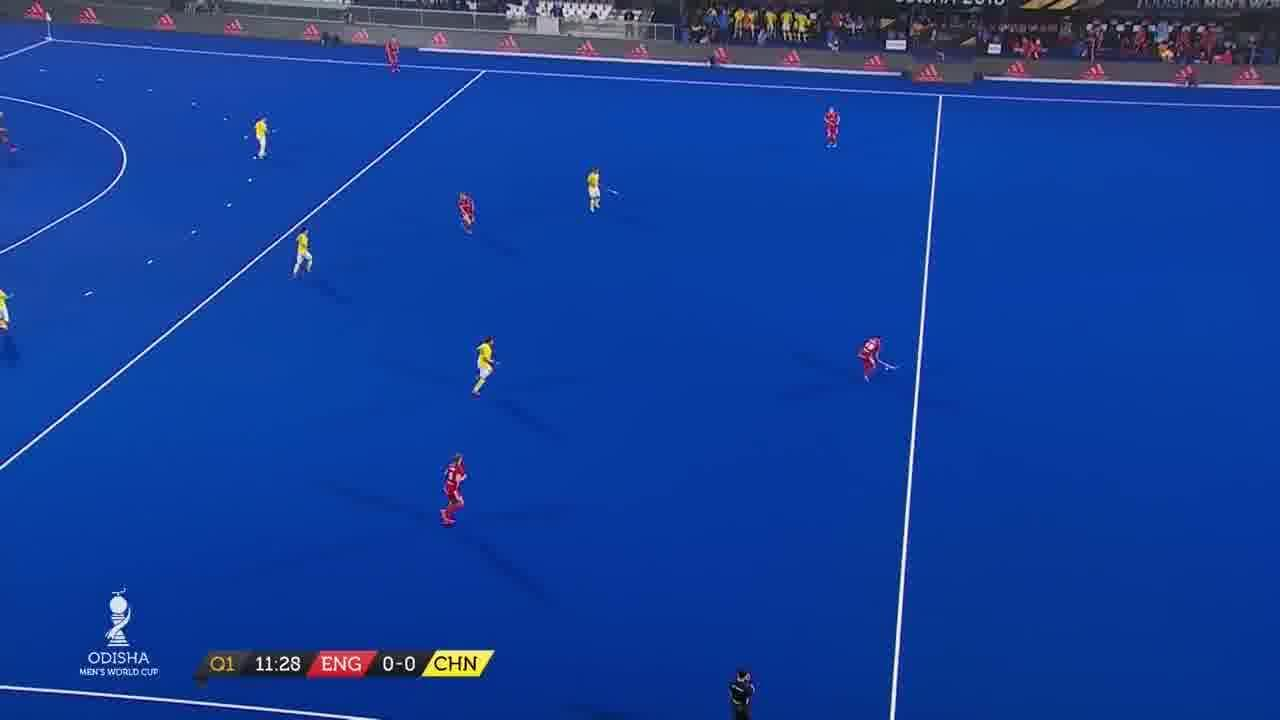ball: (882, 366, 889, 373)
